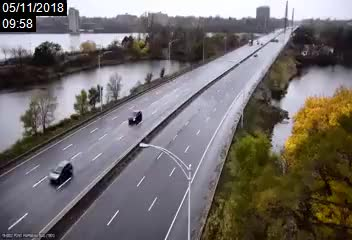personal_car: (48, 160, 73, 185), (126, 109, 143, 126)
